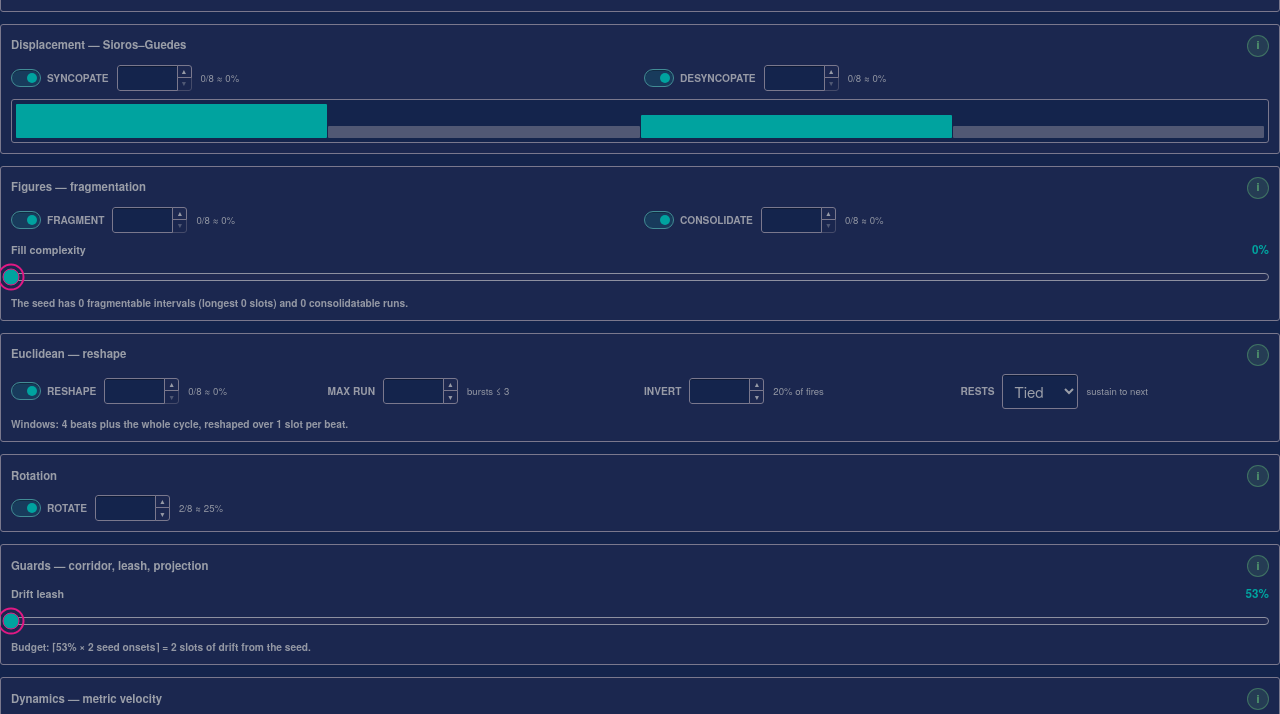
Test: EvolutionPanels › carries the Caesura extension knobs on the reshape card
(page scrolled)
expect the number field named "Dum-Ka euclid max run" is shown: met, box x1=383 y1=378 x2=444 y2=404
expect the text "bursts ≤ 3" is shown: met, box x1=467 y1=384 x2=509 y2=398
Step 1. Click the button named "Show Euclidean reshape reference" → click(1258, 355), box x1=1247 y1=344 x2=1269 y2=366
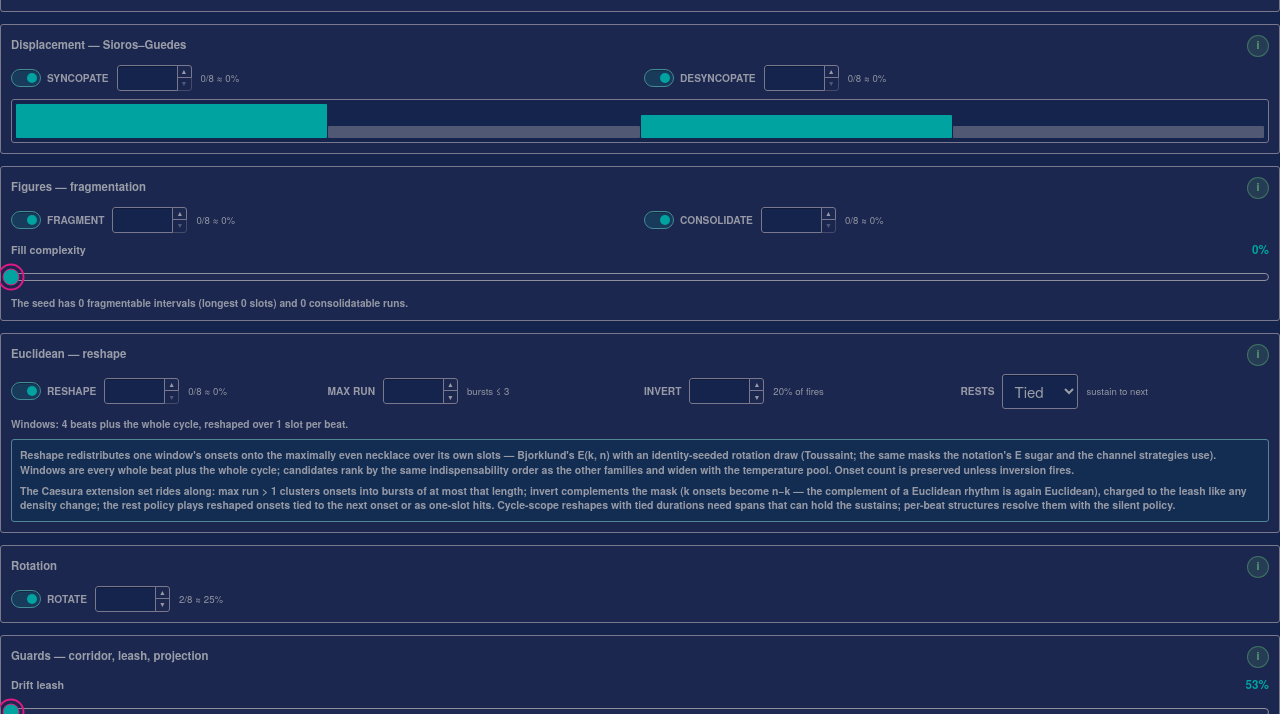
expect the element named "Euclidean reshape reference" shows "max run": met, box x1=218 y1=482 x2=259 y2=498
